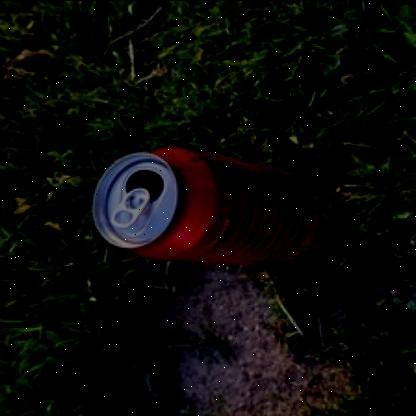Can: (92, 145, 340, 265)
